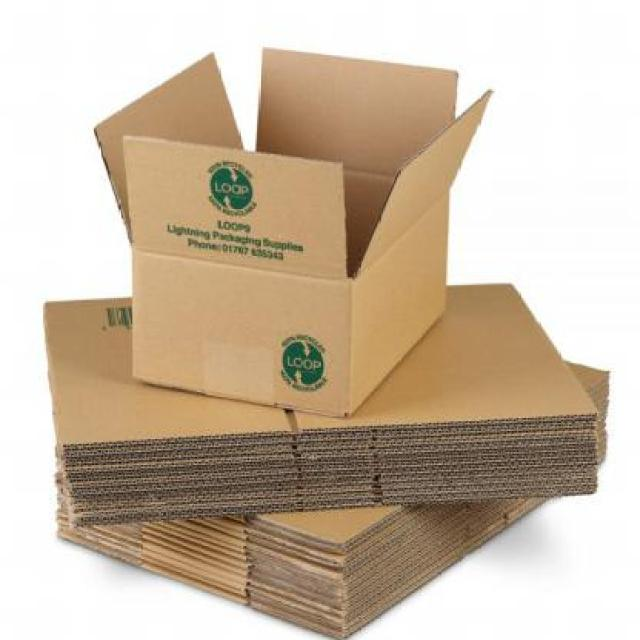box: (79, 36, 498, 418), (36, 278, 639, 522)
